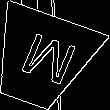M_S: (8, 28, 74, 92)
